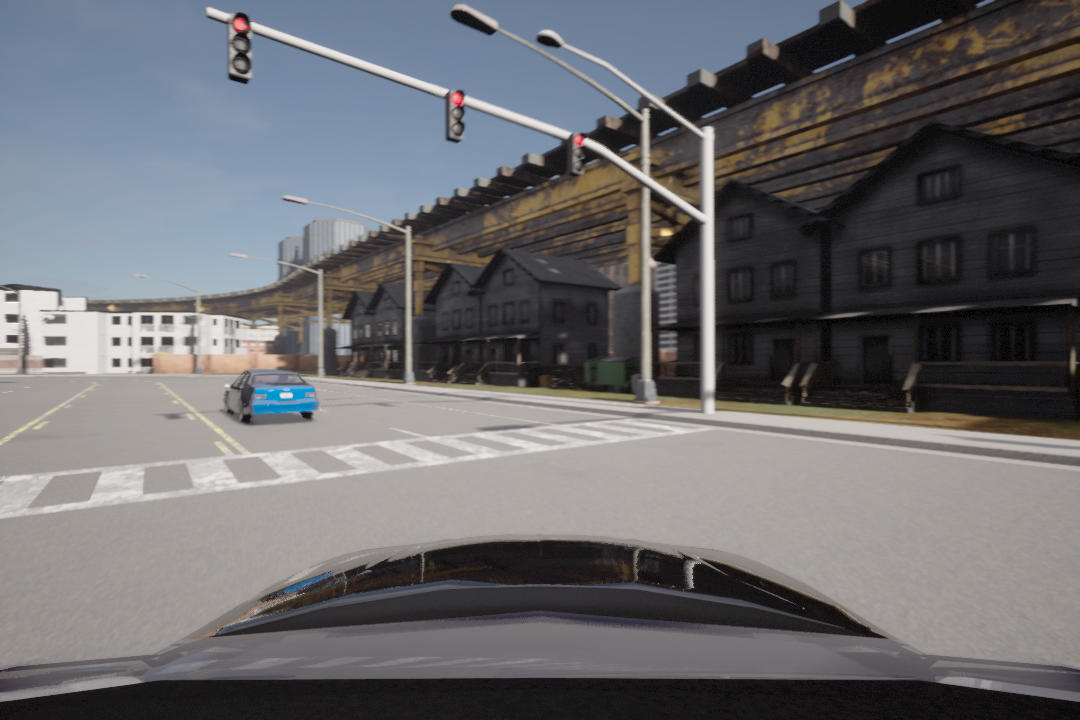TrafficLight: (226, 9, 257, 92), (443, 88, 470, 144), (568, 131, 589, 184)
walkside: (1, 411, 707, 517)
